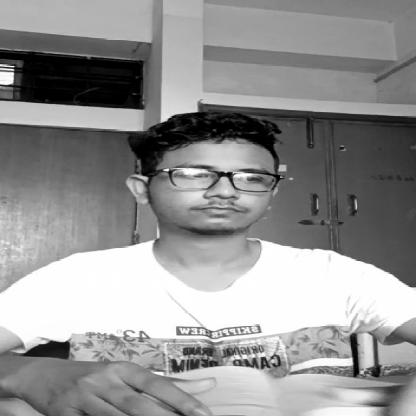Normal: (130, 117, 286, 234)
